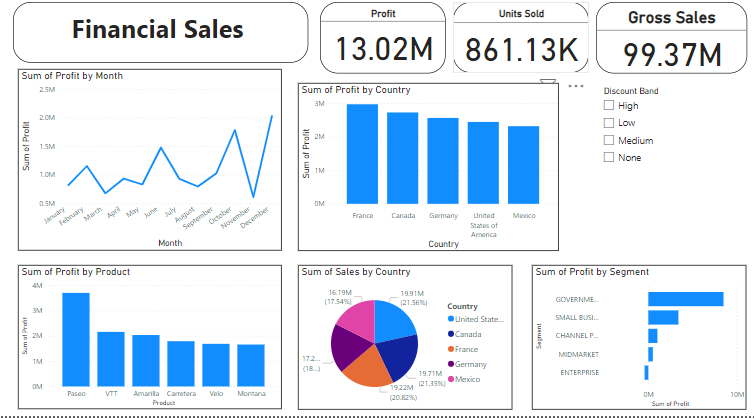

The dashboard page shown, as its layout file describes it:
{"tool":"powerbi","page":{"name":"Analysis","canvas":[1280,720],"ordinal":0},"visuals":[{"type":"lineChart","fields":{"Category":["financials.Date.Variation.Date Hierarchy.Month"],"Y":["Sum(financials.Profit)"]},"box":[32.1,138.1,442.6,305.4],"z":0},{"type":"card","title":"Units Sold","fields":{"Values":["Sum(financials.Units Sold)"]},"box":[762,25.3,228.4,118.6],"z":1000},{"type":"card","title":"Gross Sales","fields":{"Values":["Sum(financials.Gross Sales)"]},"box":[1002,25.3,253.7,119.5],"z":2000},{"type":"clusteredColumnChart","fields":{"Y":["Sum(financials.Profit)"],"Category":["financials.Country"]},"box":[502.5,161.3,438.3,281.9],"z":3000},{"type":"clusteredColumnChart","fields":{"Category":["financials.Product"],"Y":["Sum(financials.Profit)"]},"box":[32.1,466.9,442.6,242.2],"z":4000},{"type":"clusteredBarChart","fields":{"Category":["financials.Segment"],"Y":["Sum(financials.Profit)"]},"box":[896.1,466.5,359.6,243],"z":5000},{"type":"pieChart","fields":{"Category":["financials.Country"],"Y":["Sum(financials. Sales)"]},"box":[502.5,466.5,359.6,243],"z":6000},{"type":"card","title":"Profit","fields":{"Values":["Sum(financials.Profit)"]},"box":[538.4,25.3,210.9,119.5],"z":7000},{"type":"textbox","box":[23.3,25.3,495.7,102.1],"z":8000},{"type":"slicer","fields":{"Values":["financials.Discount Band"]},"box":[1002,161.3,253.7,157.4],"z":9000}]}

Visuals, with their boxes in screenshot pixels (x1, y1, x2, y2), scaled from the page's 1280x720 canvas onto the 754x419 screenshot:
lineChart - financials.Date.Variation.Date Hierarchy.Month x Sum(financials.Profit): 19 80 280 258
"Units Sold" card: 449 15 583 84
"Gross Sales" card: 590 15 740 84
clusteredColumnChart - Sum(financials.Profit) x financials.Country: 296 94 554 258
clusteredColumnChart - financials.Product x Sum(financials.Profit): 19 272 280 413
clusteredBarChart - financials.Segment x Sum(financials.Profit): 528 271 740 413
pieChart - financials.Country x Sum(financials. Sales): 296 271 508 413
"Profit" card: 317 15 441 84
textbox: 14 15 306 74
slicer - financials.Discount Band: 590 94 740 185
